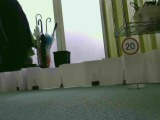speed_20: (120, 37, 141, 55)
